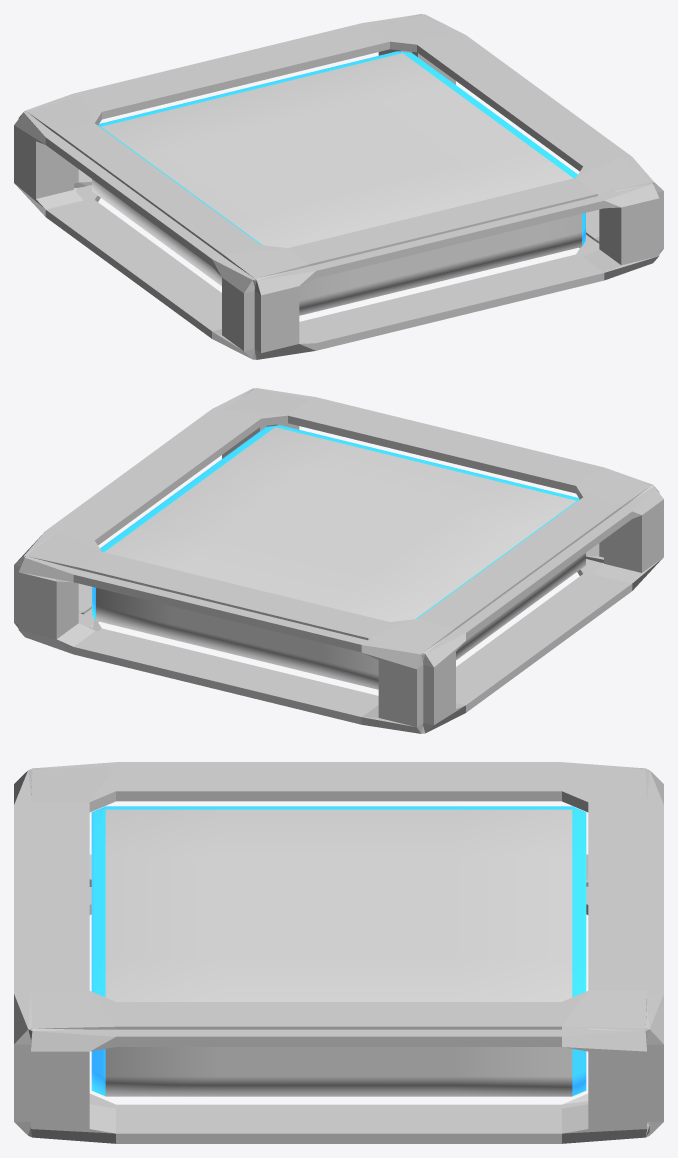
Rendered from white  tile.fbx.
The picture shows the model from 3 angles, top to bottom: view 1: azimuth 30°, elevation 25°; view 2: azimuth 150°, elevation 25°; view 3: azimuth 270°, elevation 25°; orthographic projection. The views are drawn at different scales.
Visible parts, largest first — view 1: black tile.001, black tile.000; view 2: black tile.001, black tile.000; view 3: black tile.000, black tile.001.
Part boxes in pixels (left/top/right/bottom): black tile.001: left=14, top=14, right=663, bottom=359; black tile.000: left=92, top=51, right=585, bottom=315; black tile.001: left=14, top=388, right=663, bottom=733; black tile.000: left=92, top=425, right=585, bottom=689; black tile.000: left=91, top=806, right=586, bottom=1096; black tile.001: left=14, top=762, right=663, bottom=1143.
Bounding box in the file's own units: 501 × 96.11 × 501.
